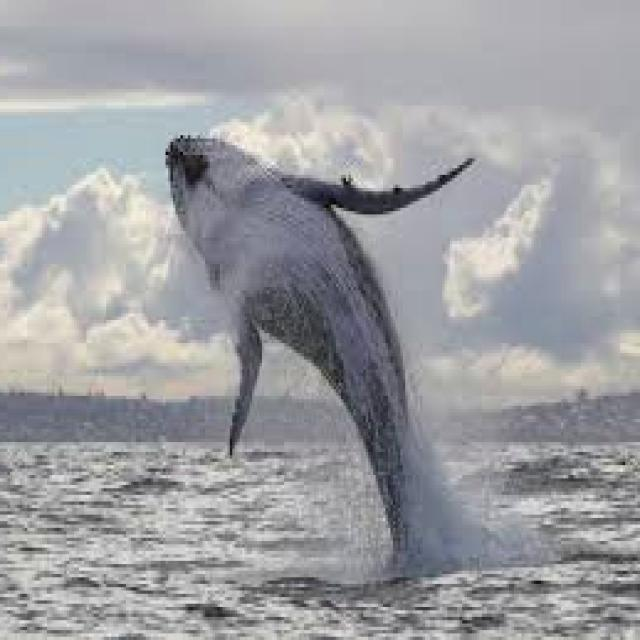whale: (168, 135, 479, 561)
